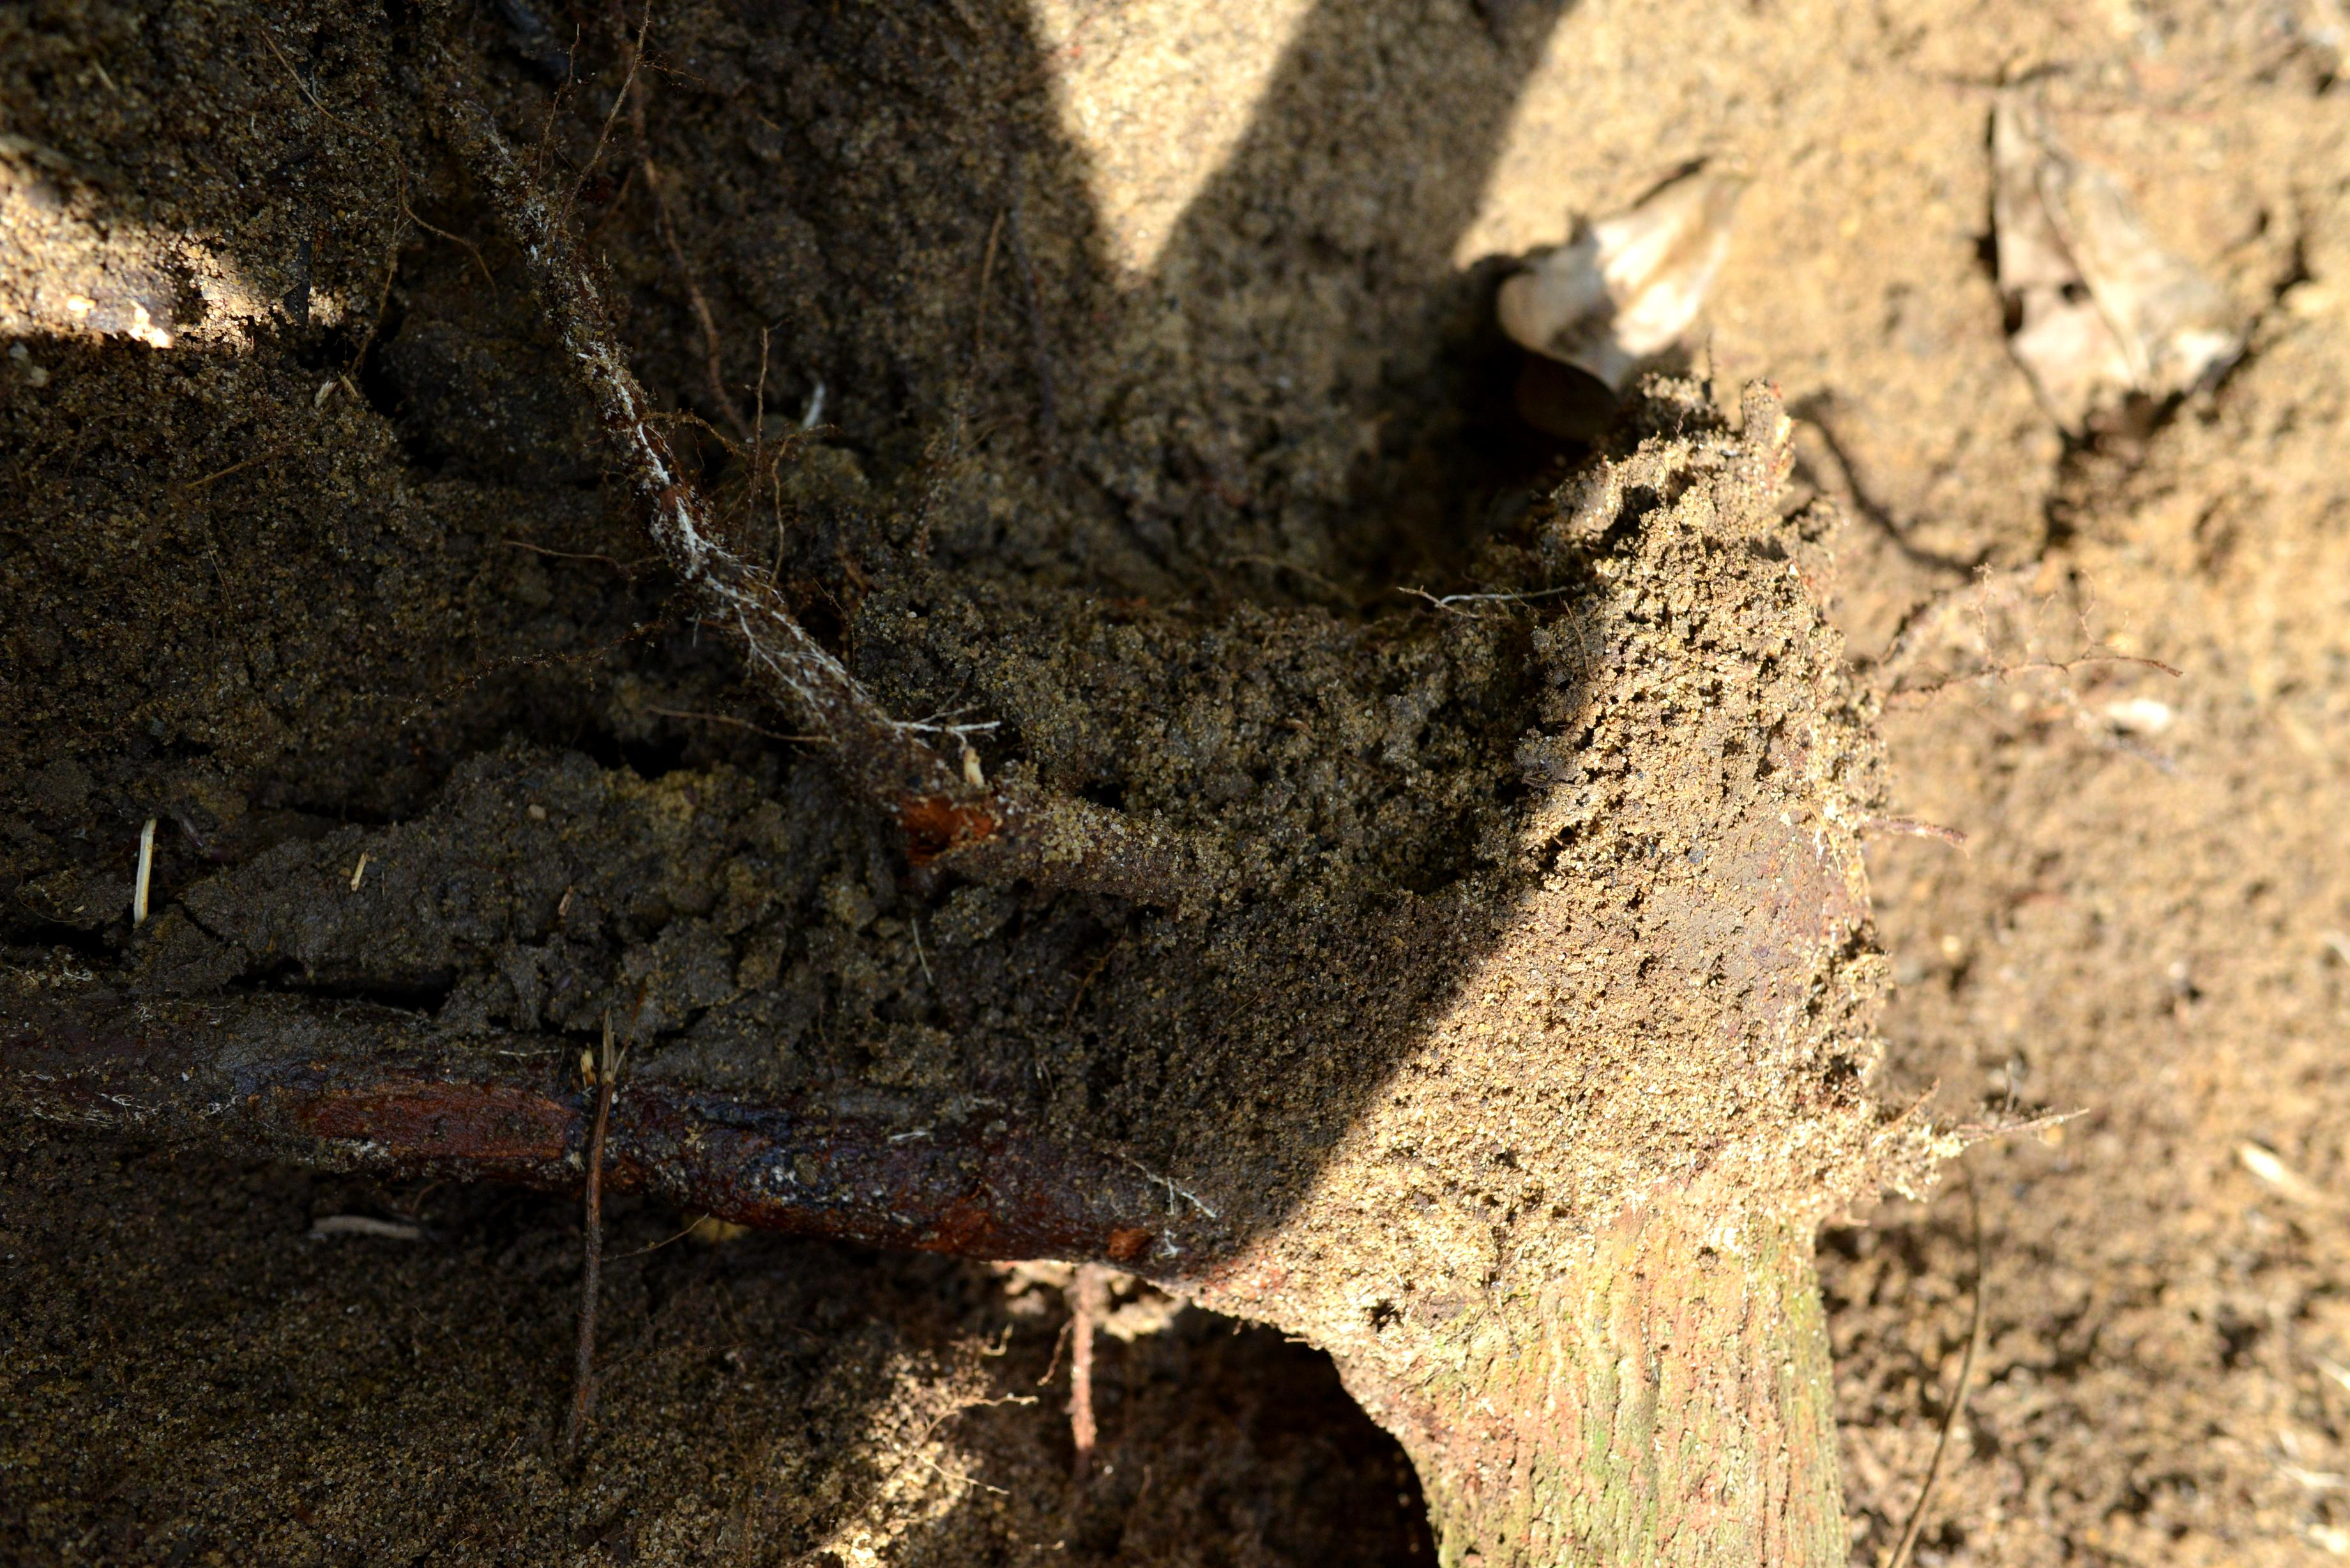Ganoderma - Mycelium: (479, 126, 940, 758), (1286, 1239, 1505, 1449), (646, 1108, 840, 1218), (1766, 681, 1865, 877), (0, 1062, 173, 1132), (1155, 1188, 1244, 1288), (0, 941, 114, 1003), (847, 1172, 915, 1256), (198, 1078, 266, 1129), (129, 996, 178, 1041)
Red Root Rot - Secretion: (926, 1158, 1137, 1274), (308, 1080, 551, 1176), (875, 786, 1025, 873)
